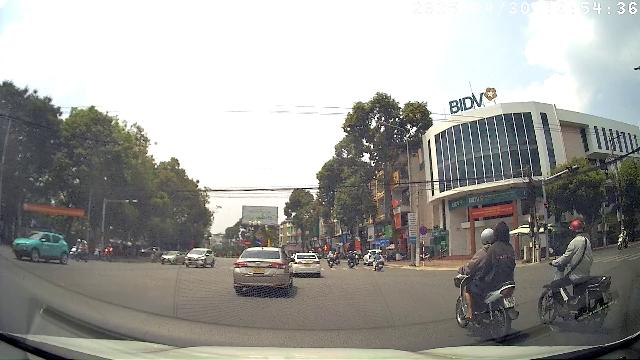130-cam-dung-va-do-xe: (420, 226, 428, 234)
